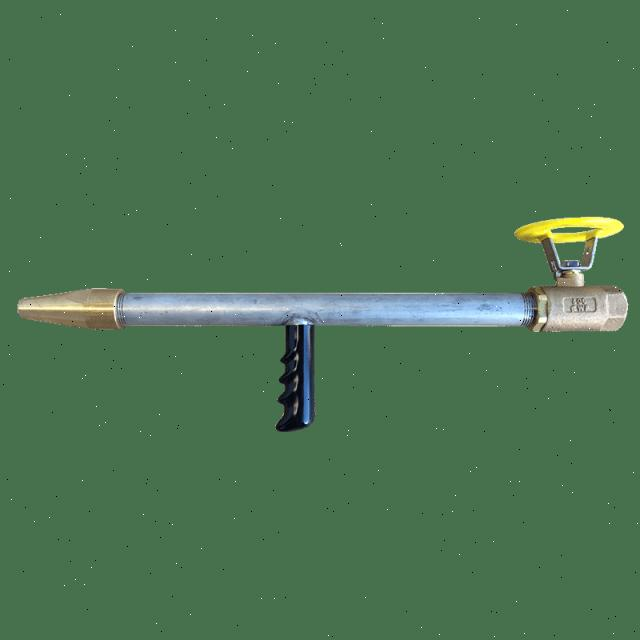bazooka: (12, 208, 640, 438)
